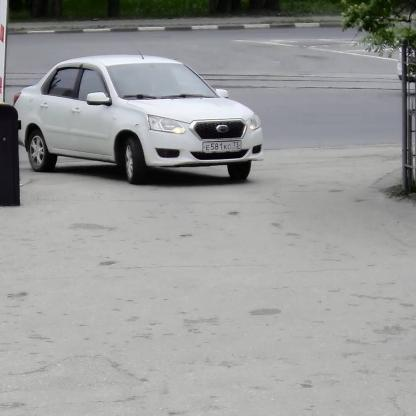plate: (204, 140, 240, 152)
